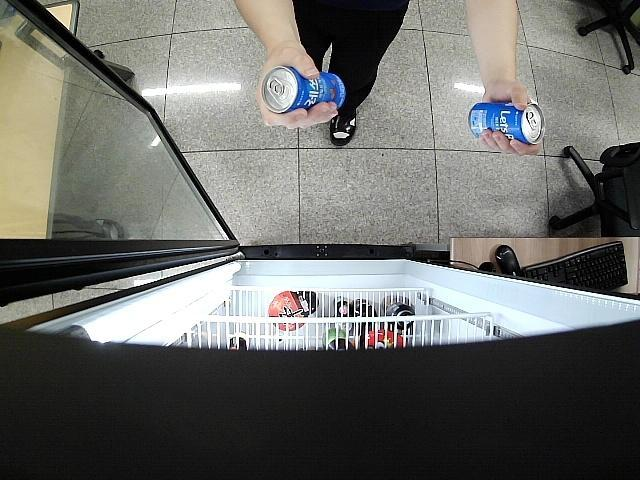15_letsbe: (261, 64, 345, 116), (468, 102, 546, 147)
